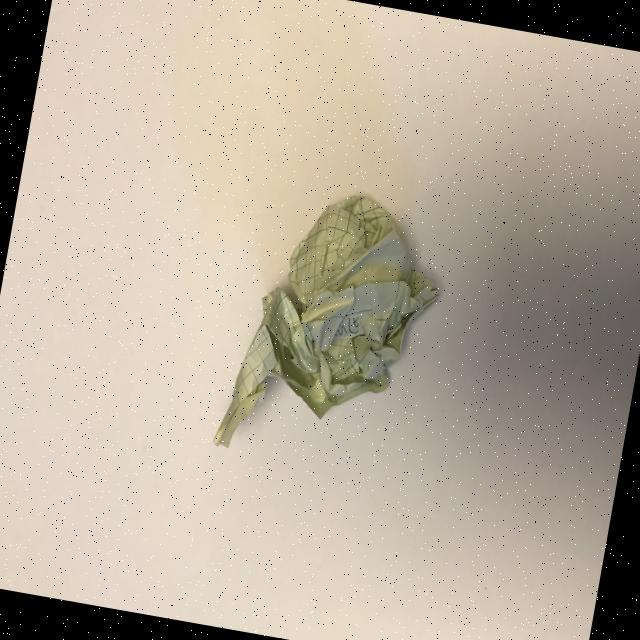paper: (212, 173, 454, 480)
